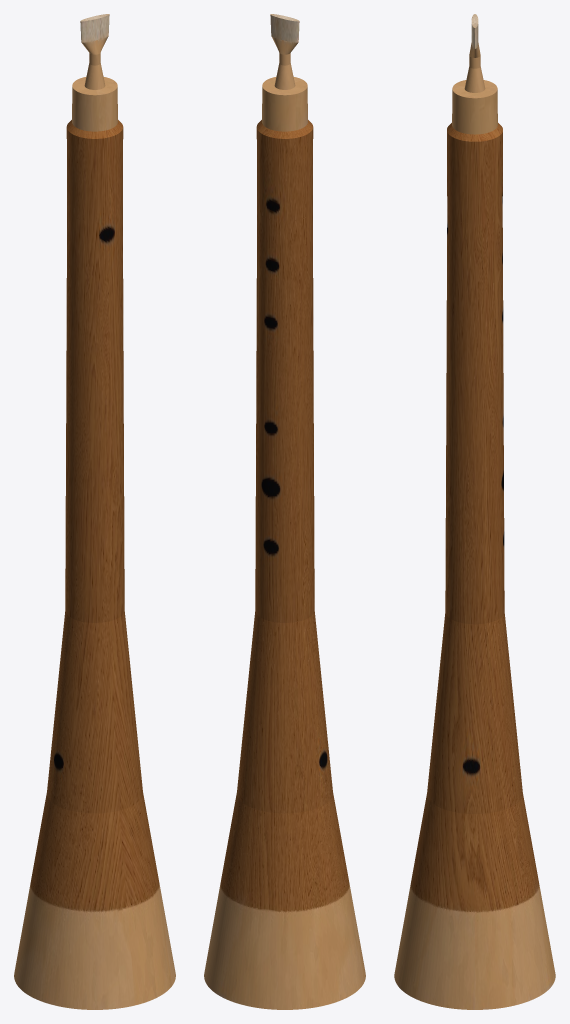
Rendered from gralla.glb.
The picture shows the model from 3 angles, left to right: view 1: azimuth 30°, elevation 25°; view 2: azimuth 150°, elevation 25°; view 3: azimuth 270°, elevation 25°; orthographic projection.
Visible parts, largest first — view 1: Cylinder.001; view 2: Cylinder.001; view 3: Cylinder.001.
Part boxes in pixels (x1,y1,x2,y2): Cylinder.001: (14,14,175,1009); Cylinder.001: (204,14,365,1009); Cylinder.001: (394,14,555,1009).
Bounding box in the file's own units: 9.99 × 65.25 × 9.99.
Materials: 1 (1 with a texture image).
